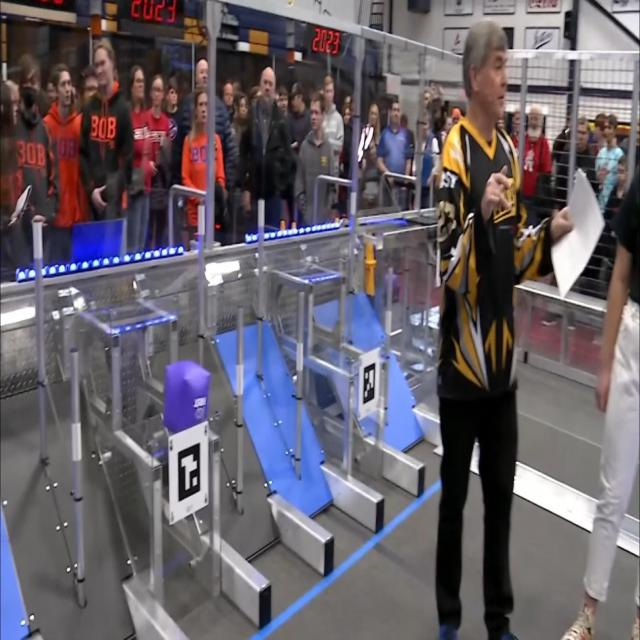frc_cone: (364, 262, 376, 299), (362, 243, 376, 266)
frc_cube: (163, 359, 210, 438)
